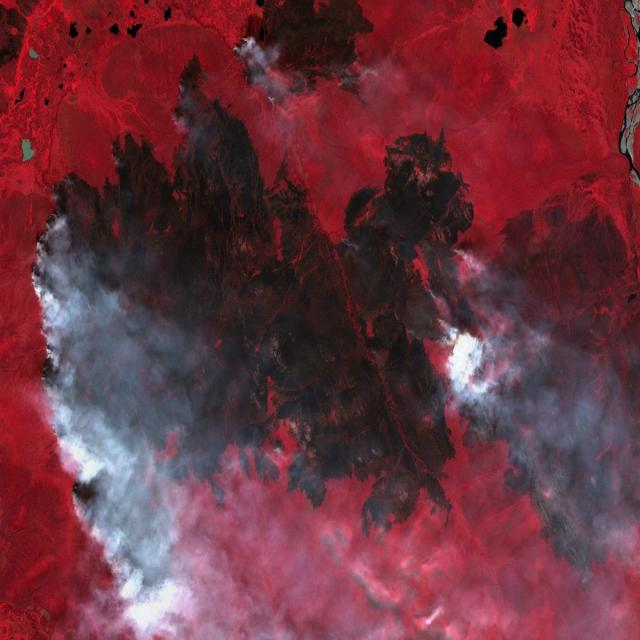fire: (23, 199, 198, 625), (422, 224, 498, 421), (220, 10, 264, 80)
